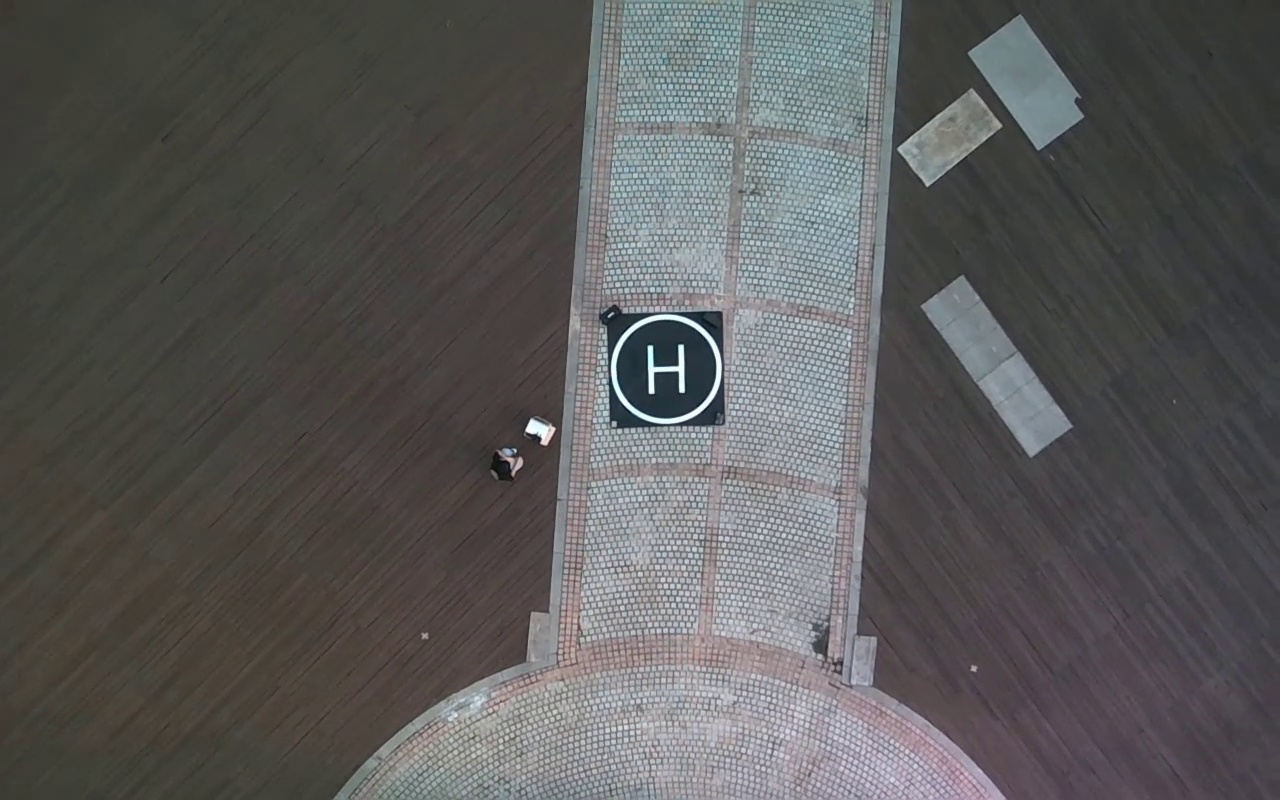H: (646, 346, 687, 392)
heliport: (611, 314, 722, 425)
